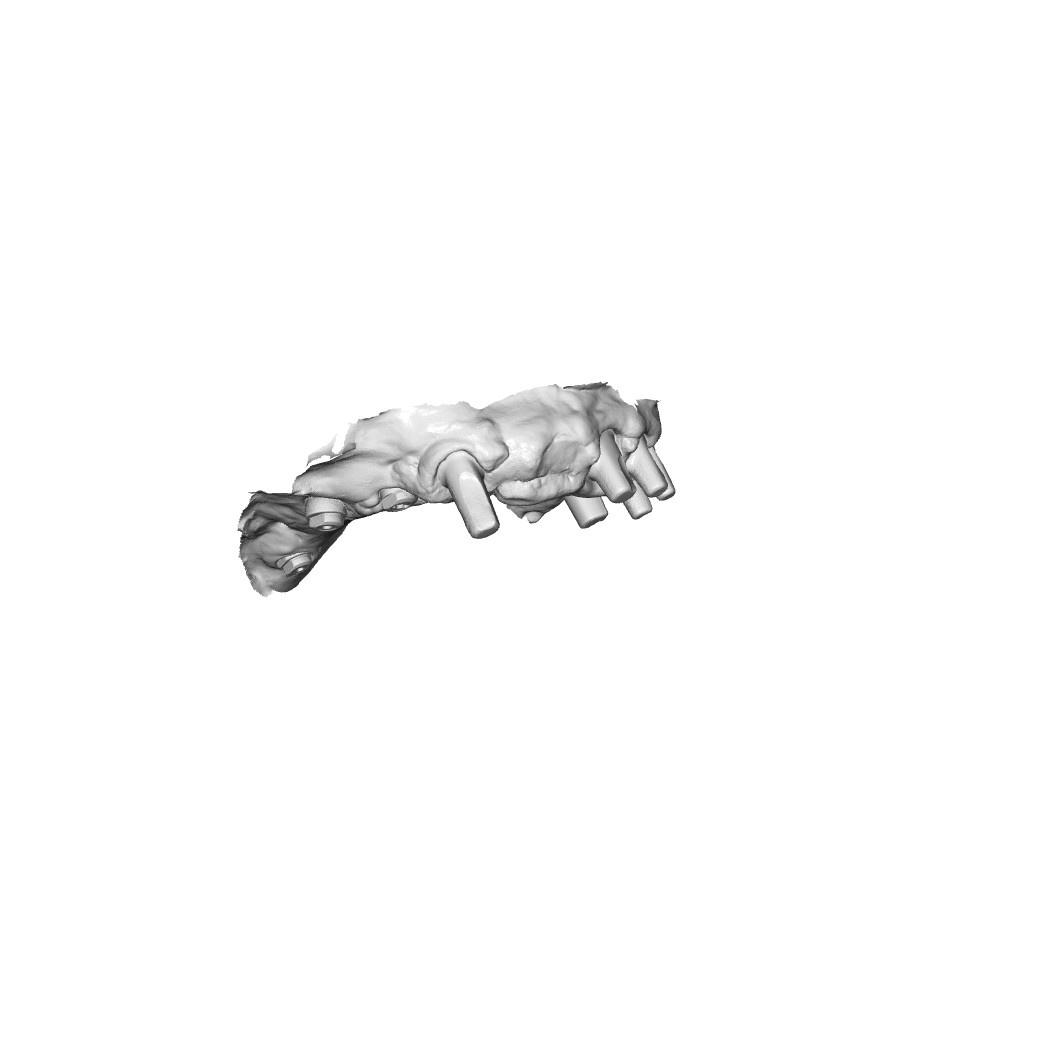abutment: (434, 449, 501, 541), (587, 427, 638, 505), (626, 435, 668, 498), (564, 488, 610, 530), (655, 450, 677, 502), (621, 492, 653, 522)
implant: (301, 495, 349, 534), (277, 548, 319, 579)
implant_minus: (377, 485, 420, 514)
